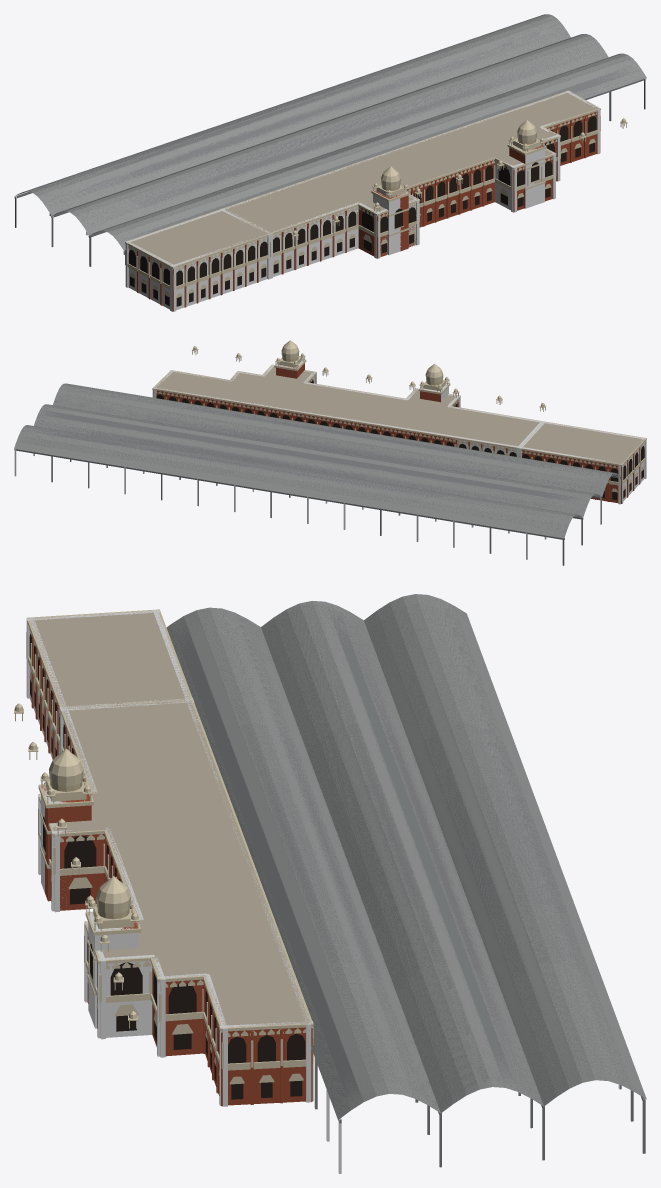
The model's file is chennai-egmore.glb.
3 views of the same model, one above another, from view 1: azimuth 30°, elevation 25°; view 2: azimuth 150°, elevation 25°; view 3: azimuth 270°, elevation 25° (orthographic). The views are drawn at different scales.
Visible parts, largest first — view 1: LOD0, COL_16, COL_05, COL_15, COL_19, COL_18, COL_03, COL_10; view 2: LOD0, COL_03, COL_15; view 3: LOD0, COL_12, COL_19, COL_03, COL_16.
Boxes of the visible parts, x1,y1,x2,y2 form: LOD0: (14, 14, 646, 311); COL_16: (170, 237, 267, 311); COL_05: (272, 202, 358, 276); COL_15: (126, 241, 176, 311); COL_19: (525, 149, 544, 208); COL_18: (373, 190, 407, 255); COL_03: (223, 91, 570, 209); COL_10: (495, 160, 516, 212); LOD0: (14, 340, 646, 565); COL_03: (152, 387, 520, 455); COL_15: (618, 437, 645, 504); LOD0: (14, 594, 646, 1167); COL_12: (97, 954, 154, 1038); COL_19: (88, 910, 138, 1028); COL_03: (186, 699, 311, 1102); COL_16: (29, 617, 67, 758).
Size of what is drawn, in the model's own units: 190 by 24.8 by 100.
